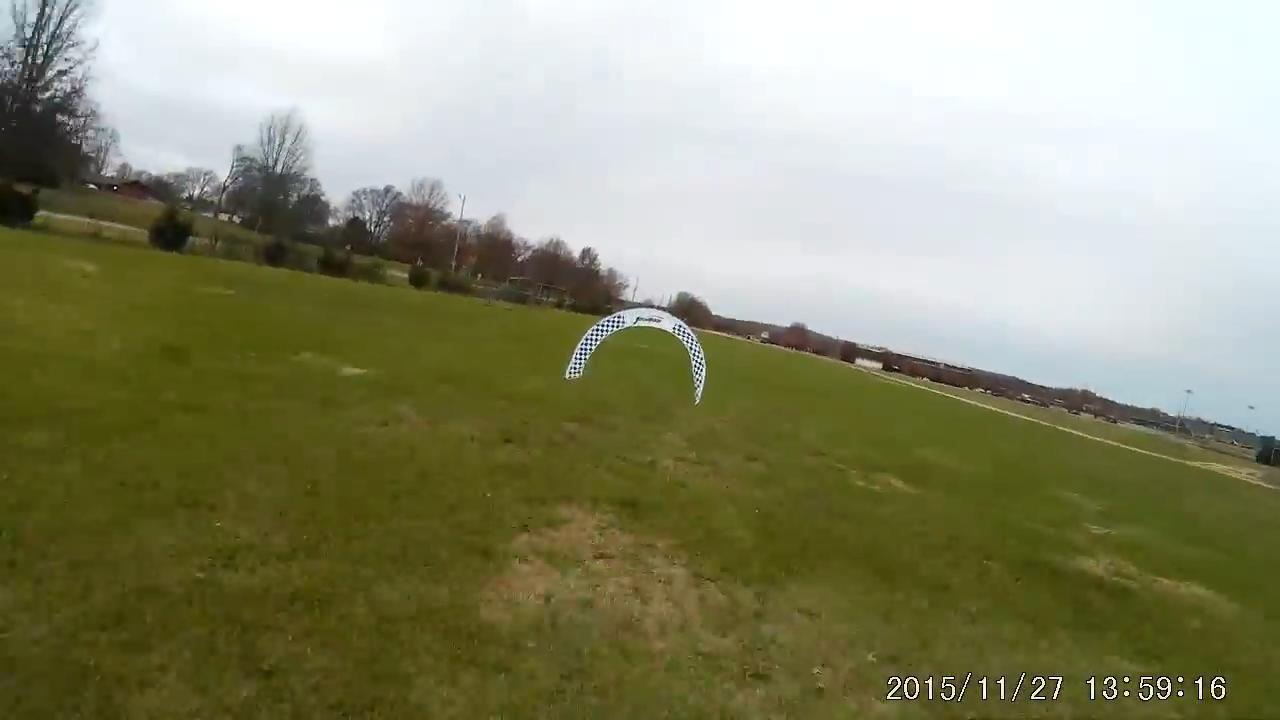gate: (563, 302, 705, 412)
